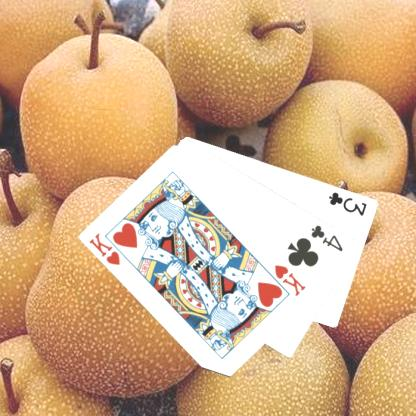3C: (326, 189, 369, 217)
4C: (308, 221, 345, 252)
KH: (272, 262, 308, 298), (87, 230, 122, 267)
